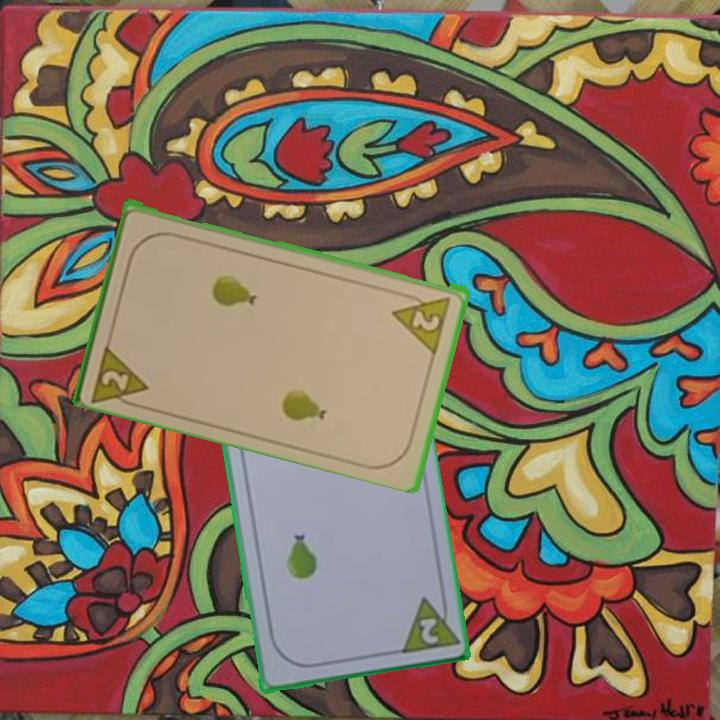2p: (88, 338, 152, 411), (394, 588, 459, 657), (389, 290, 454, 355)
